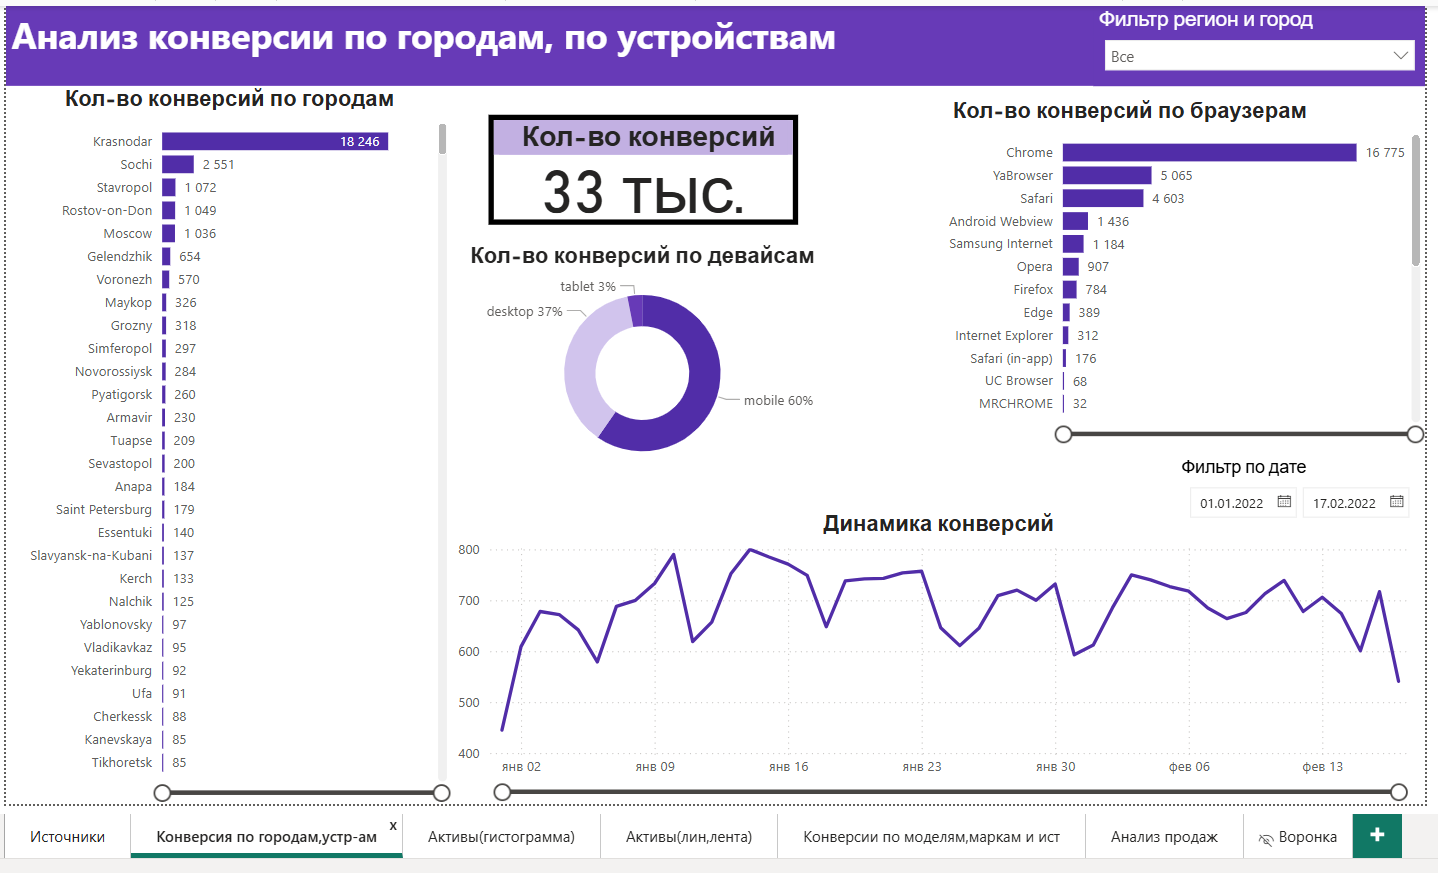

Layout of this report page (visuals, bound fields, positions):
{"tool":"powerbi","page":{"name":"Конверсия по городам,устр-ам","canvas":[1280,720],"ordinal":1},"visuals":[{"type":"clusteredBarChart","title":"Кол-во конверсий по городам","fields":{"Category":["Маркетинговые данные.Город"],"Y":["Sum(Маркетинговые данные.Конверсия)"]},"box":[0,71.7,402.8,648.3],"z":0},{"type":"card","title":"Кол-во конверсий","fields":{"Values":["Sum(Маркетинговые данные.Конверсия)"]},"box":[435.3,97.6,279.4,99],"z":1000},{"type":"donutChart","title":"Кол-во конверсий по девайсам","fields":{"Category":["Маркетинговые данные.Девайс"],"Y":["Sum(Маркетинговые данные.Конверсия)"]},"box":[402.8,212.9,343.1,215.6],"z":2000},{"type":"lineChart","title":"Динамика конверсий","fields":{"Y":["Sum(Маркетинговые данные.Конверсия)"],"Category":["Маркетинговые данные.Дата.Изменение.Иерархия дат.Год","Маркетинговые данные.Дата.Изменение.Иерархия дат.Квартал","Маркетинговые данные.Дата.Изменение.Иерархия дат.Месяц","Маркетинговые данные.Дата.Изменение.Иерархия дат.День"]},"box":[402.5,455.5,877.5,264.5],"z":3000},{"type":"textbox","box":[0,0,1280.3,72.1],"z":4000},{"type":"clusteredBarChart","title":"Кол-во конверсий по браузерам","fields":{"Category":["Маркетинговые данные.Браузер"],"Y":["Sum(Маркетинговые данные.Конверсия)"]},"box":[745.9,81.9,534.4,314.3],"z":5000},{"type":"slicer","title":"Фильтр регион и город","fields":{"Values":["Маркетинговые данные.Регион","Маркетинговые данные.Город"]},"box":[980.7,1.2,299.6,70.9],"z":6000},{"type":"slicer","title":"Фильтр по дате","fields":{"Values":["Маркетинговые данные.Дата"]},"box":[1055.3,407.2,225,77],"z":7000}]}

Visuals, with their boxes on the page's 1280x720 design canvas (x1, y1, x2, y2). These are canvas units, not pixel positions in the 1438x873 screenshot, which may show the page scaled, cropped or inside an application window:
"Кол-во конверсий по городам" clusteredBarChart: Rect(0, 72, 403, 720)
"Кол-во конверсий" card: Rect(435, 98, 715, 197)
"Кол-во конверсий по девайсам" donutChart: Rect(403, 213, 746, 428)
"Динамика конверсий" lineChart: Rect(402, 456, 1280, 720)
textbox: Rect(0, 0, 1280, 72)
"Кол-во конверсий по браузерам" clusteredBarChart: Rect(746, 82, 1280, 396)
"Фильтр регион и город" slicer: Rect(981, 1, 1280, 72)
"Фильтр по дате" slicer: Rect(1055, 407, 1280, 484)
